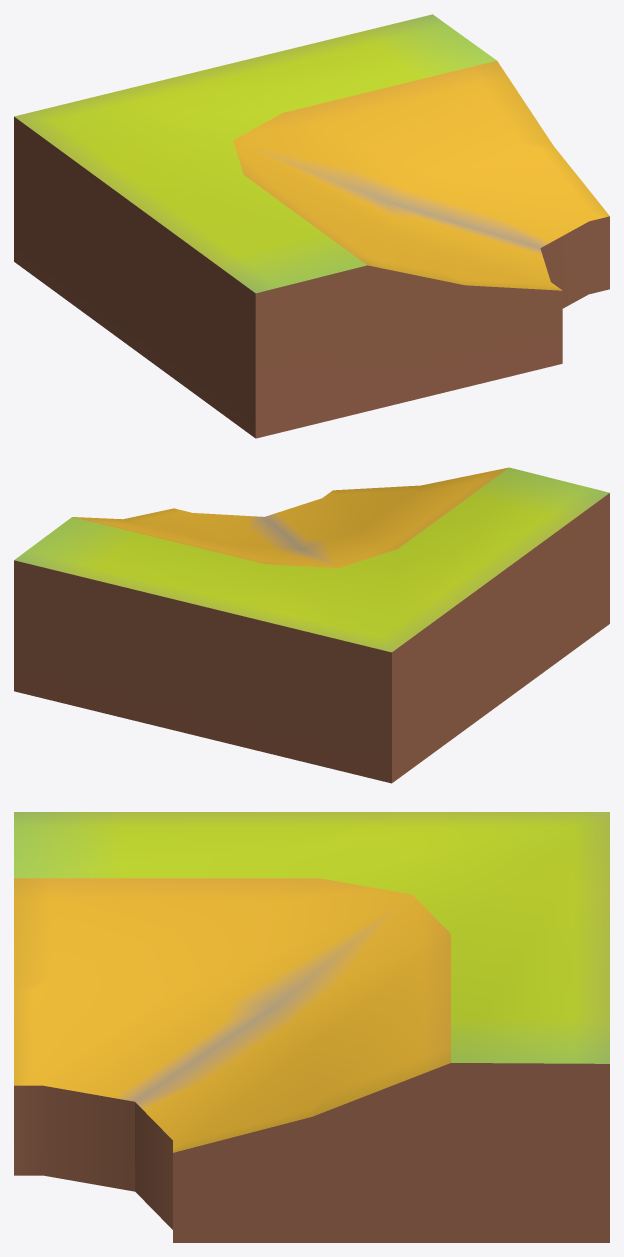
File: Shore.InnerCorner.A.glb
3 views of the same model, one above another, from view 1: azimuth 30°, elevation 25°; view 2: azimuth 150°, elevation 25°; view 3: azimuth 270°, elevation 25° (orthographic). The views are drawn at different scales.
Parts seen in each view (by area): view 1: Shore.InnerCorner.A; view 2: Shore.InnerCorner.A; view 3: Shore.InnerCorner.A.
Boxes of the visible parts, x1,y1,x2,y2 form: Shore.InnerCorner.A: [14, 14, 609, 438]; Shore.InnerCorner.A: [14, 467, 609, 783]; Shore.InnerCorner.A: [14, 812, 609, 1242].
Bounding box in the file's own units: 3 × 1 × 3.
Materials: 1 (1 with a texture image).
